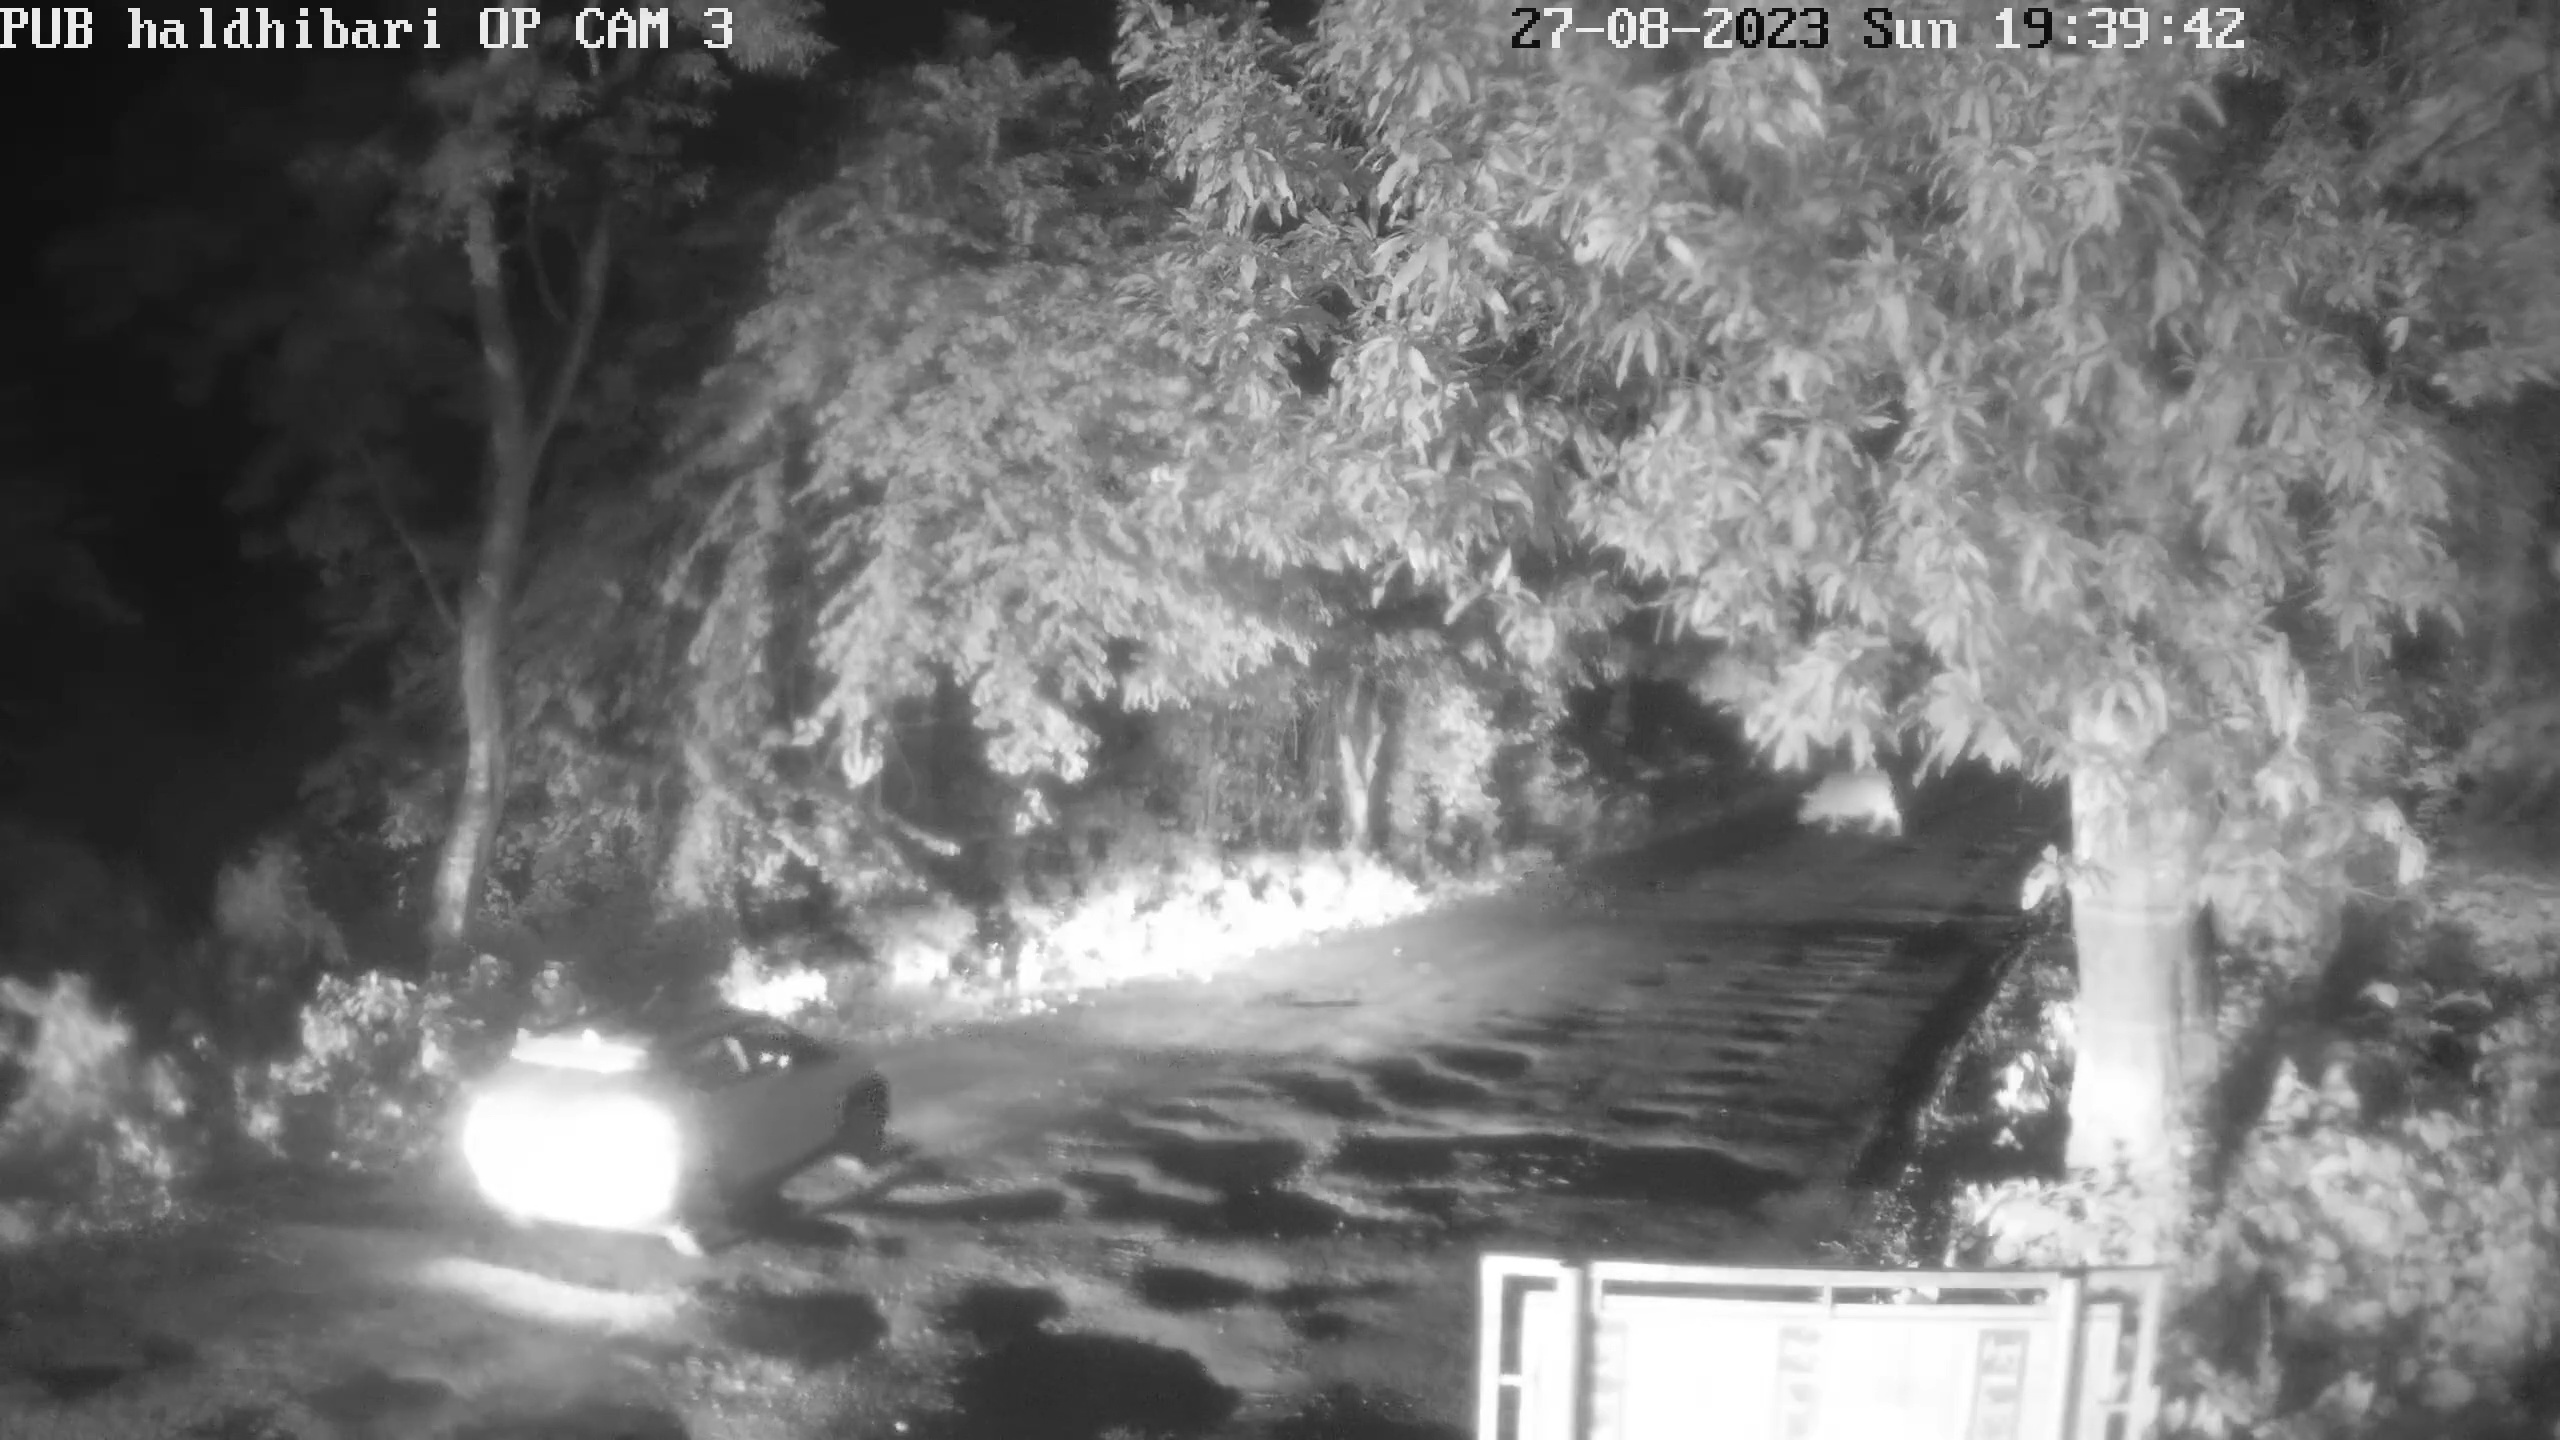rhinos: (1792, 763, 1899, 833)
